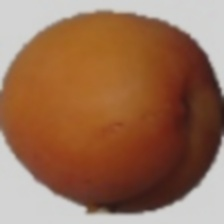apricot: (15, 55, 178, 206)
